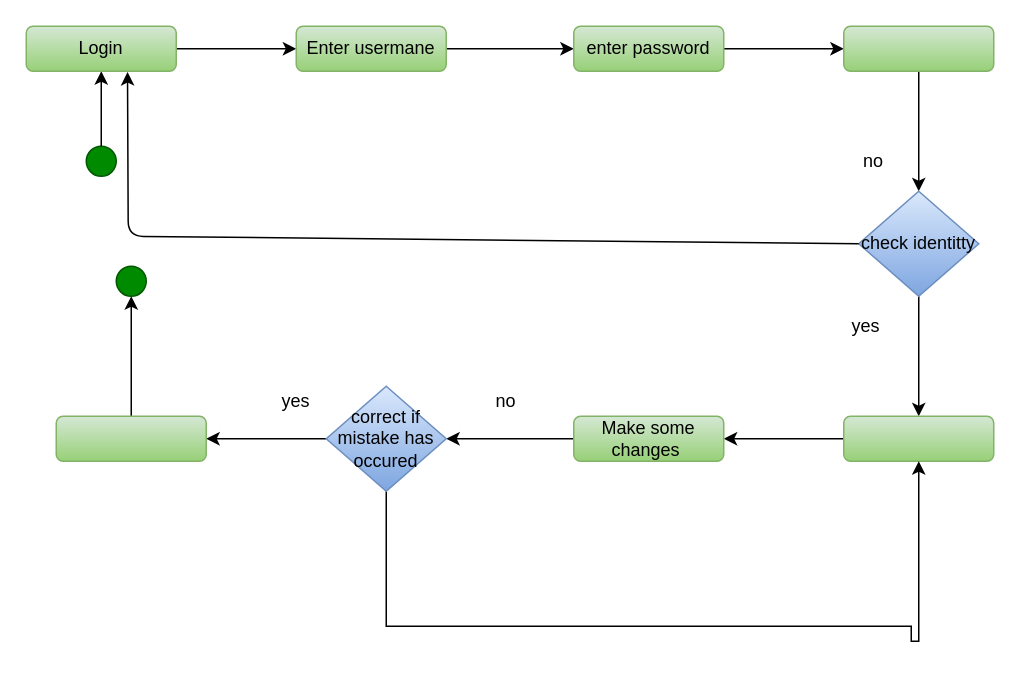
Some shapes in this 1020 by 680 pixel diagram are drawn without their labels. The box of each missing label's shape, as (x1, y1, x2, y2) in pixels:
check captcha: (842, 25, 994, 71)
Enter in homepage: (842, 415, 994, 461)
Update the changes made: (55, 415, 206, 461)
